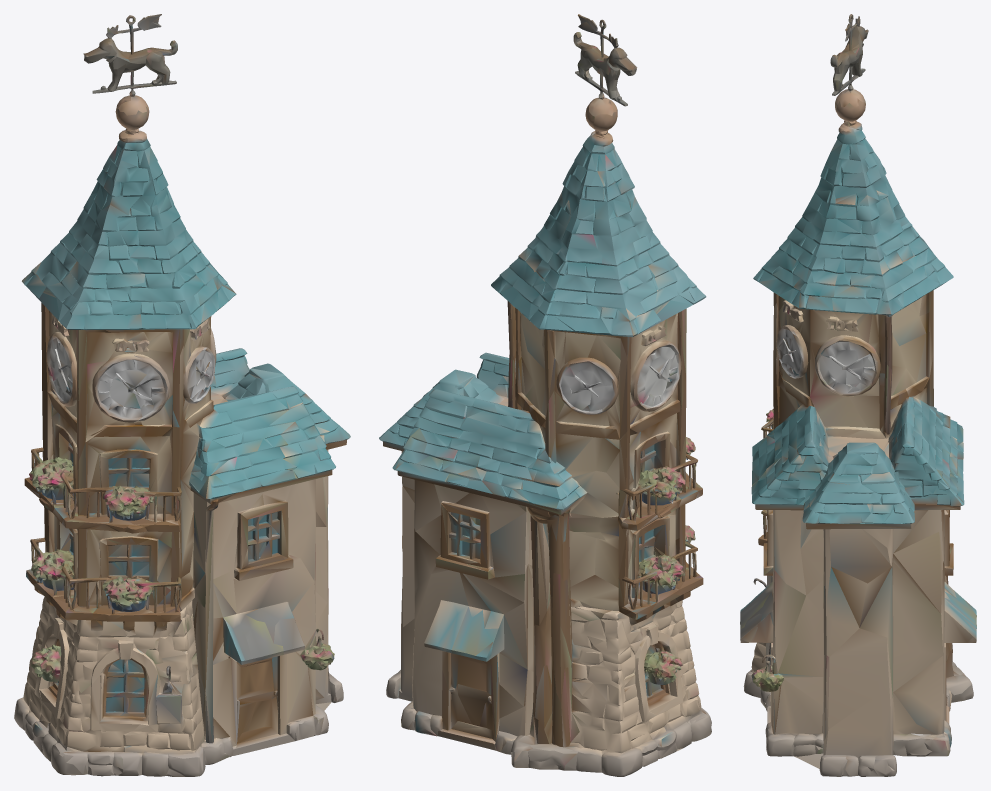
The model's file is clock_tower.glb.
3 renders of one model, left to right at view 1: azimuth 30°, elevation 25°; view 2: azimuth 150°, elevation 25°; view 3: azimuth 270°, elevation 25°, orthographic. The views are drawn at different scales.
Visible parts, largest first — view 1: geometry_0; view 2: geometry_0; view 3: geometry_0.
Boxes of the visible parts, box(x1,y1,x2,y2) form: geometry_0: box(14, 14, 350, 776); geometry_0: box(379, 14, 711, 776); geometry_0: box(740, 14, 976, 776).
Size of the model in its own units: 5.07 by 12 by 3.83.
